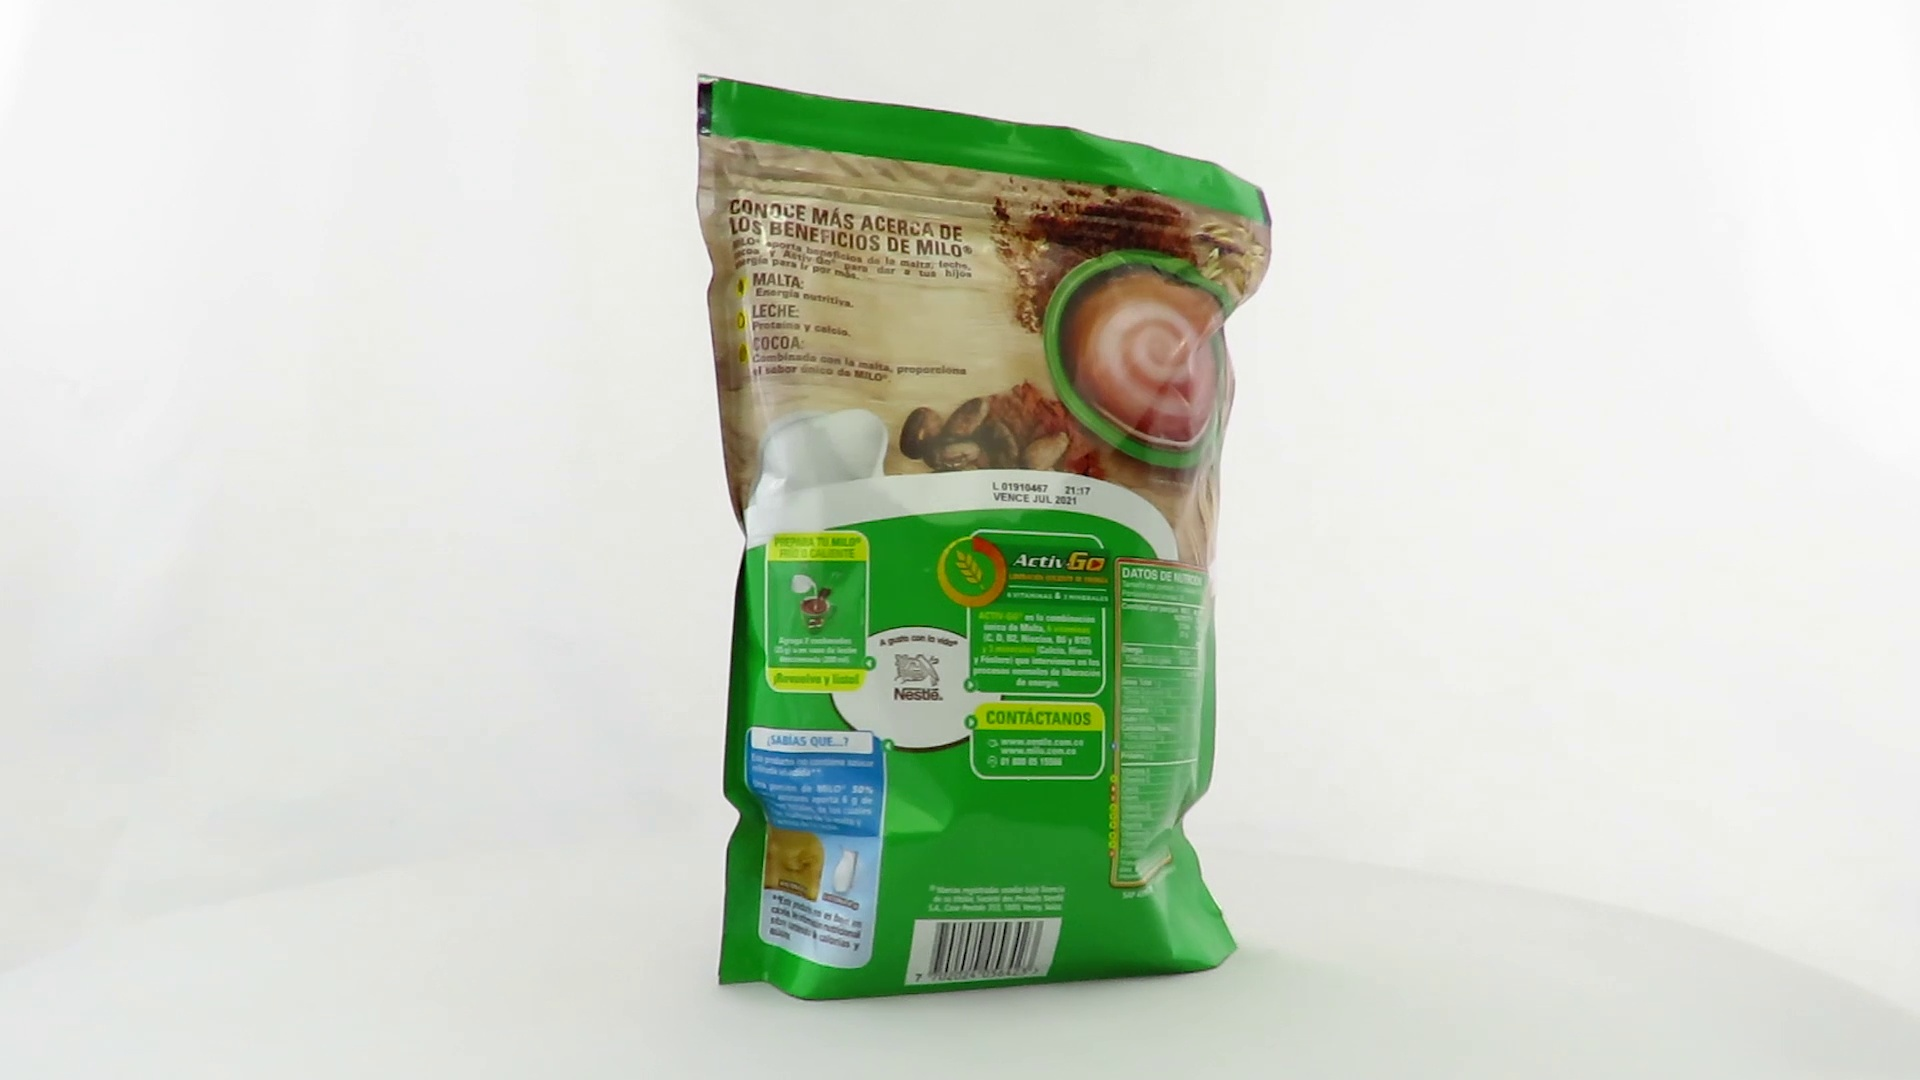COL0170205DYP50000: (691, 69, 1278, 1007)
